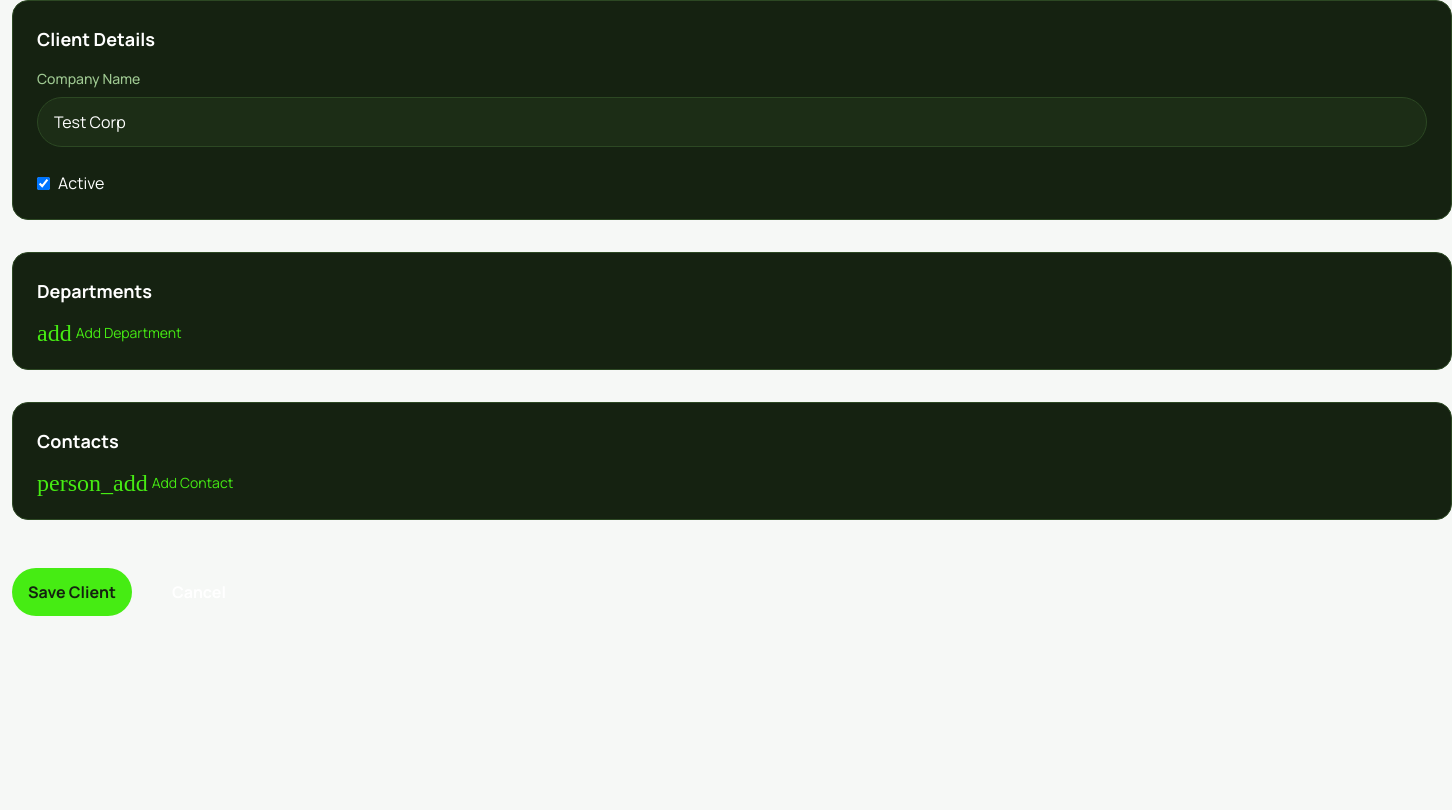
ClientForm › adds a new department
This screenshot has width=1452, height=810.
Click the button "Add Department". click: (109,333)
box: x1=37 y1=321 x2=182 y2=345
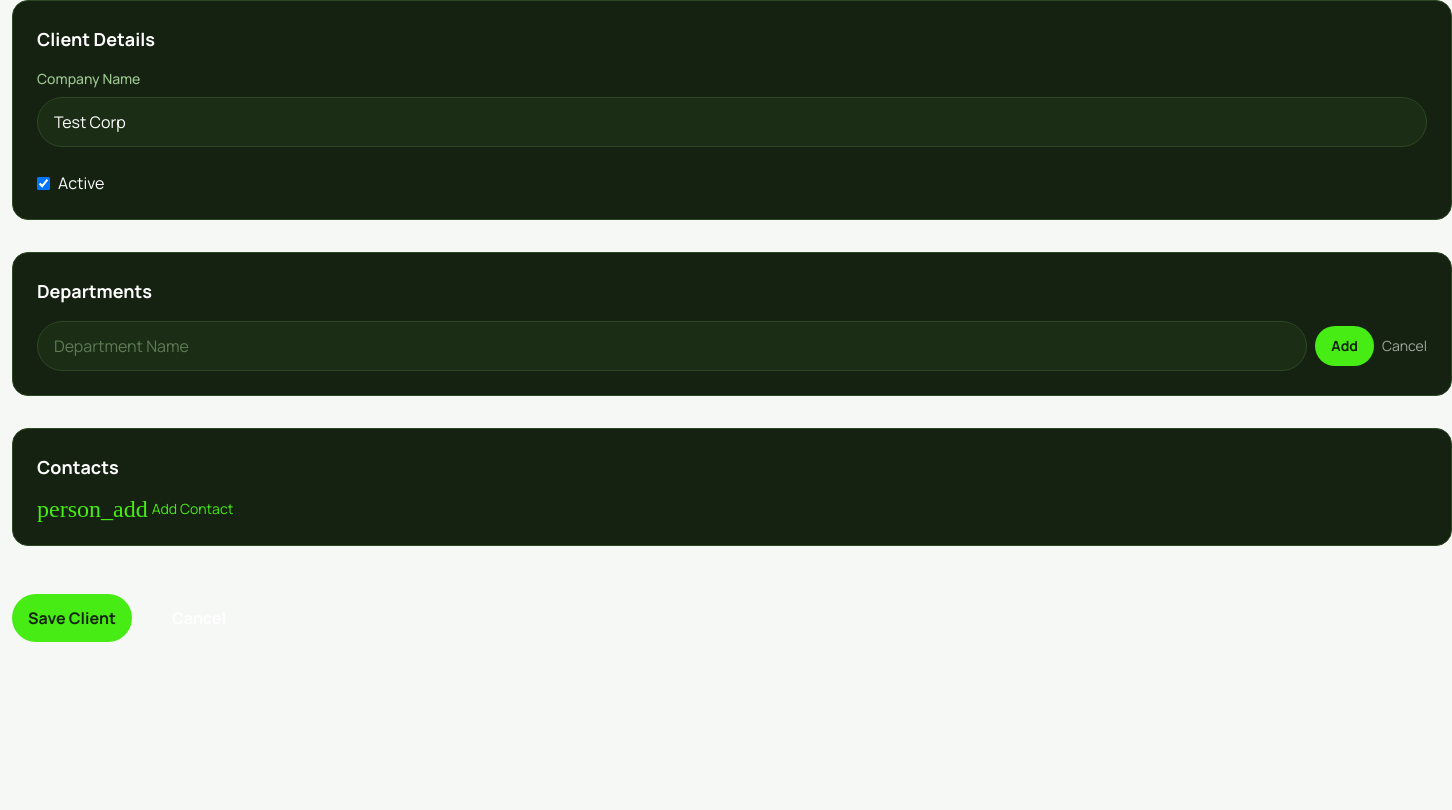
Type "Engineering" into the field with placeholder "Department Name". click: (672,346)
box: x1=37 y1=321 x2=1307 y2=371
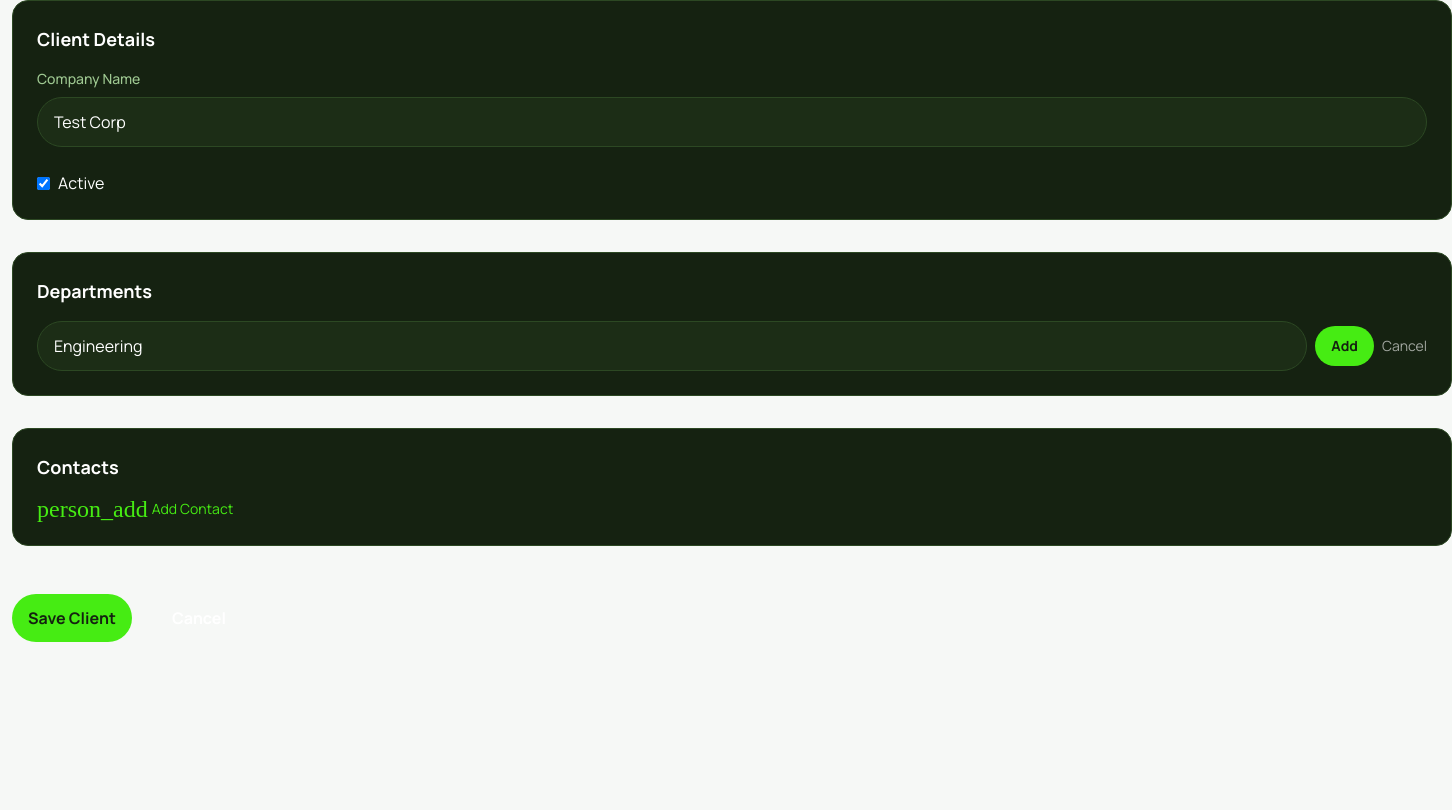
Click the button "Add". click: (1345,346)
box: x1=1315 y1=326 x2=1374 y2=366
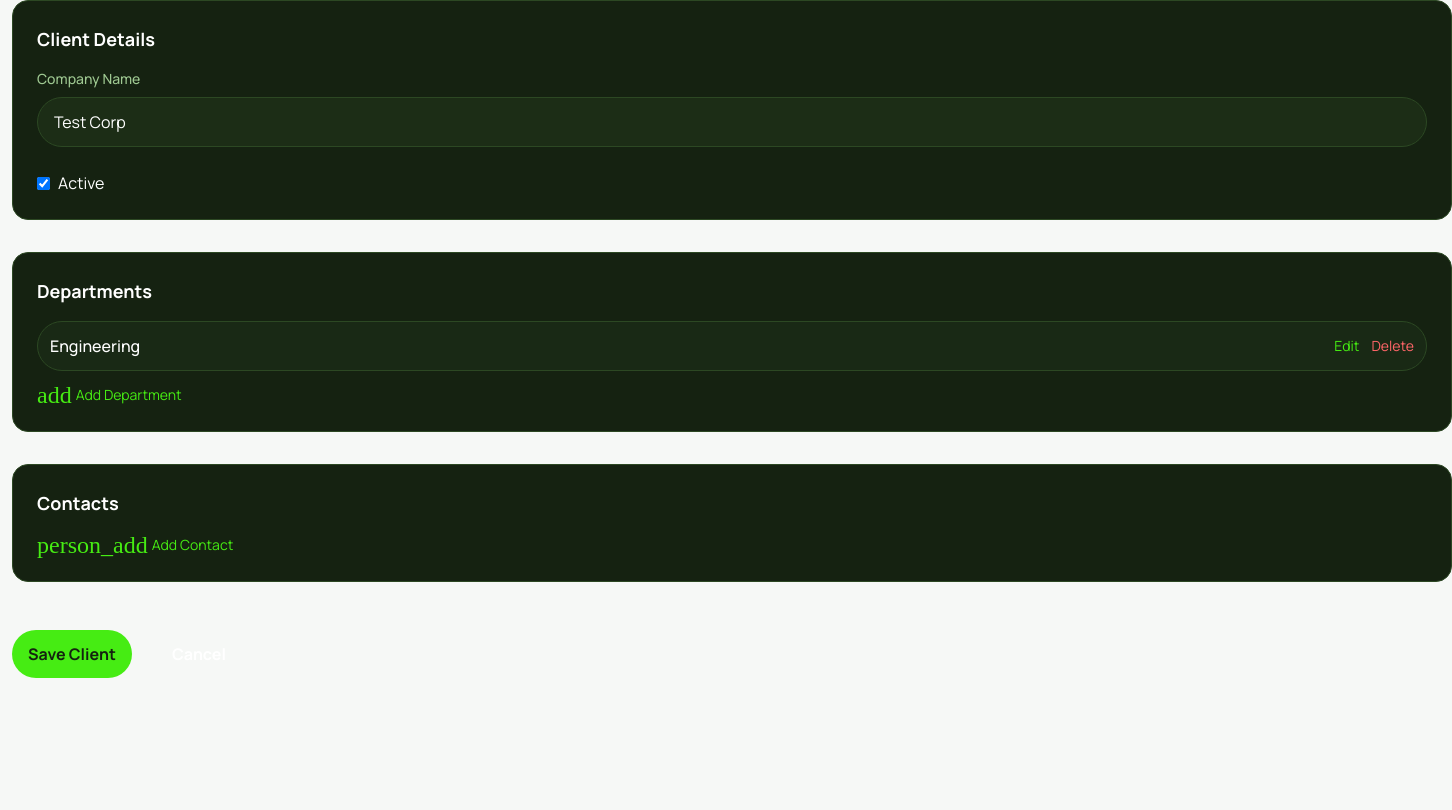
Expected: the text "Engineering" is shown, x1=50 y1=334 x2=140 y2=358
